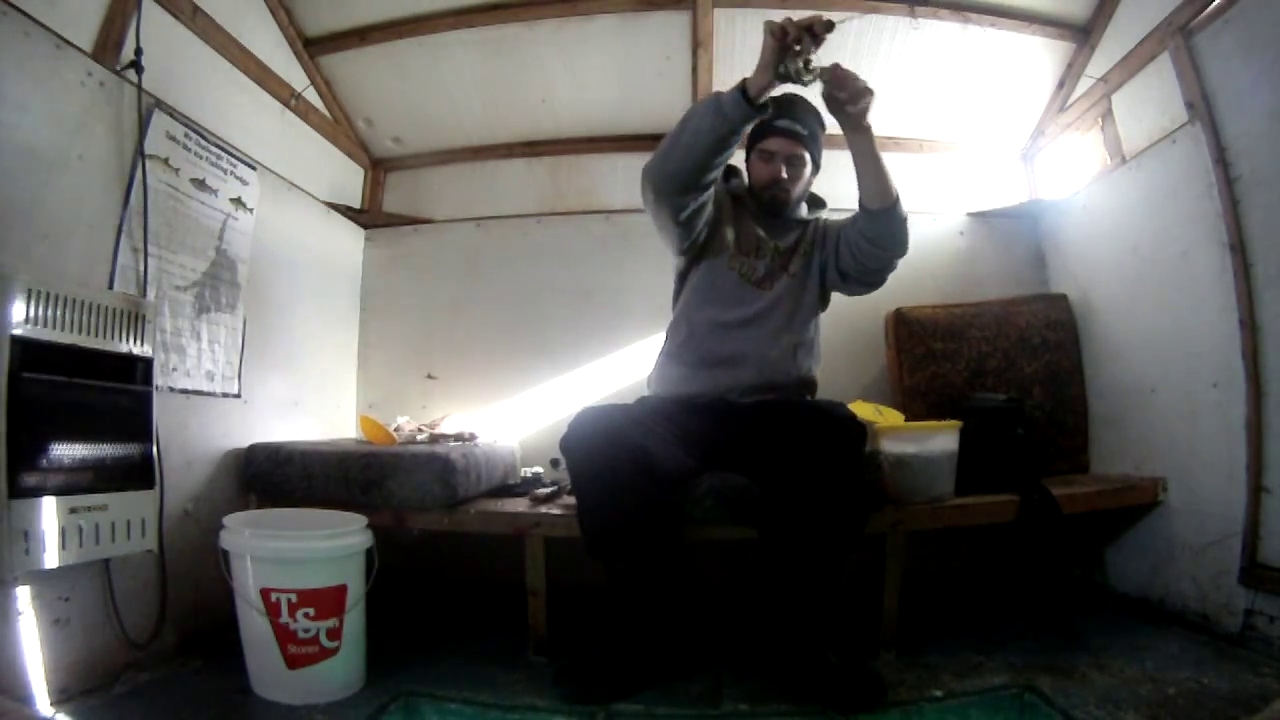person: (558, 15, 908, 710)
